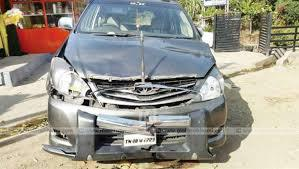Headlight-Damage: (46, 58, 83, 106)
bonnet-dent: (66, 33, 212, 80)
front-bumper-dent: (40, 112, 234, 163)
